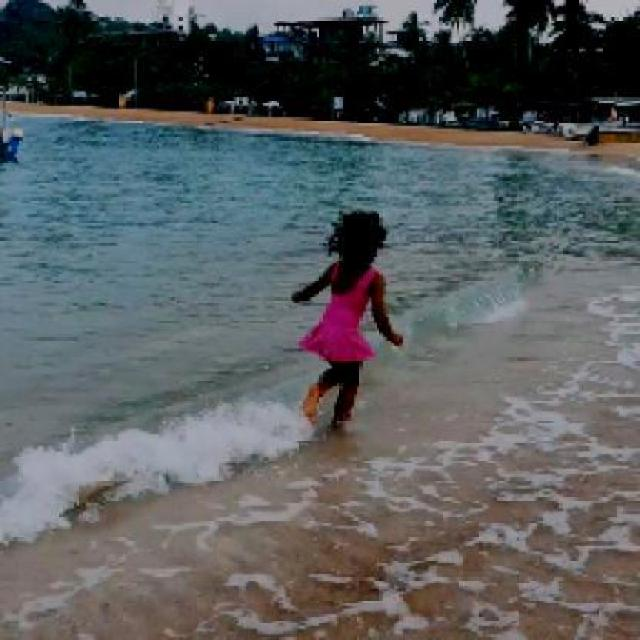child: (289, 209, 405, 425)
